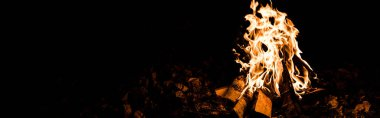fire: (241, 7, 309, 100)
